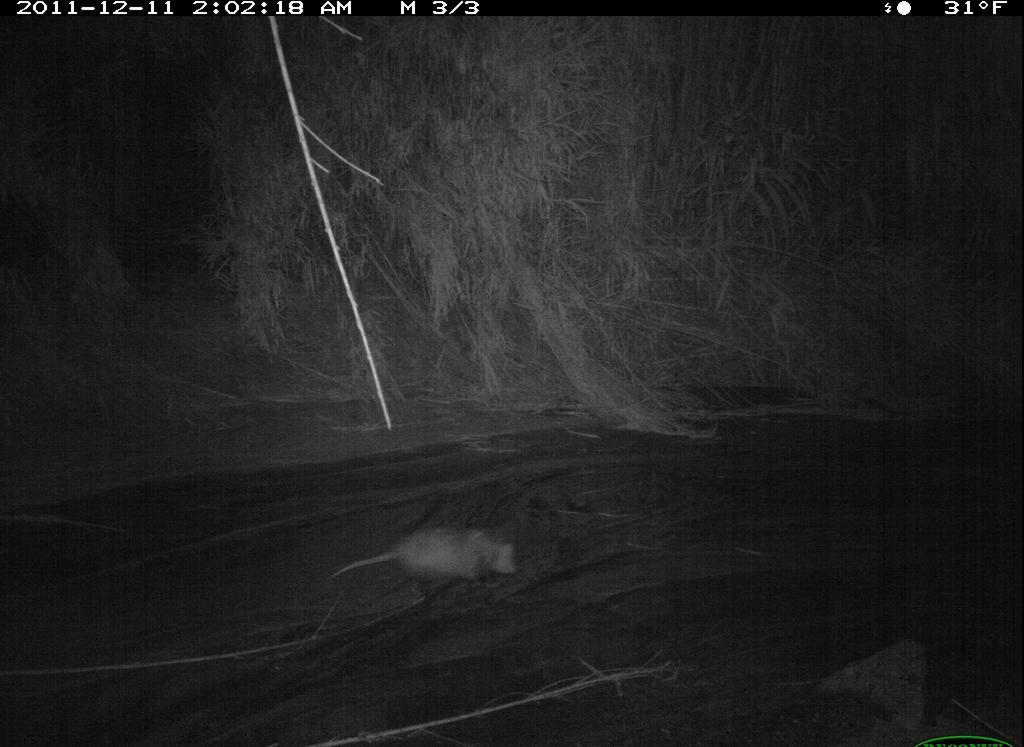opossum: (314, 510, 536, 607)
